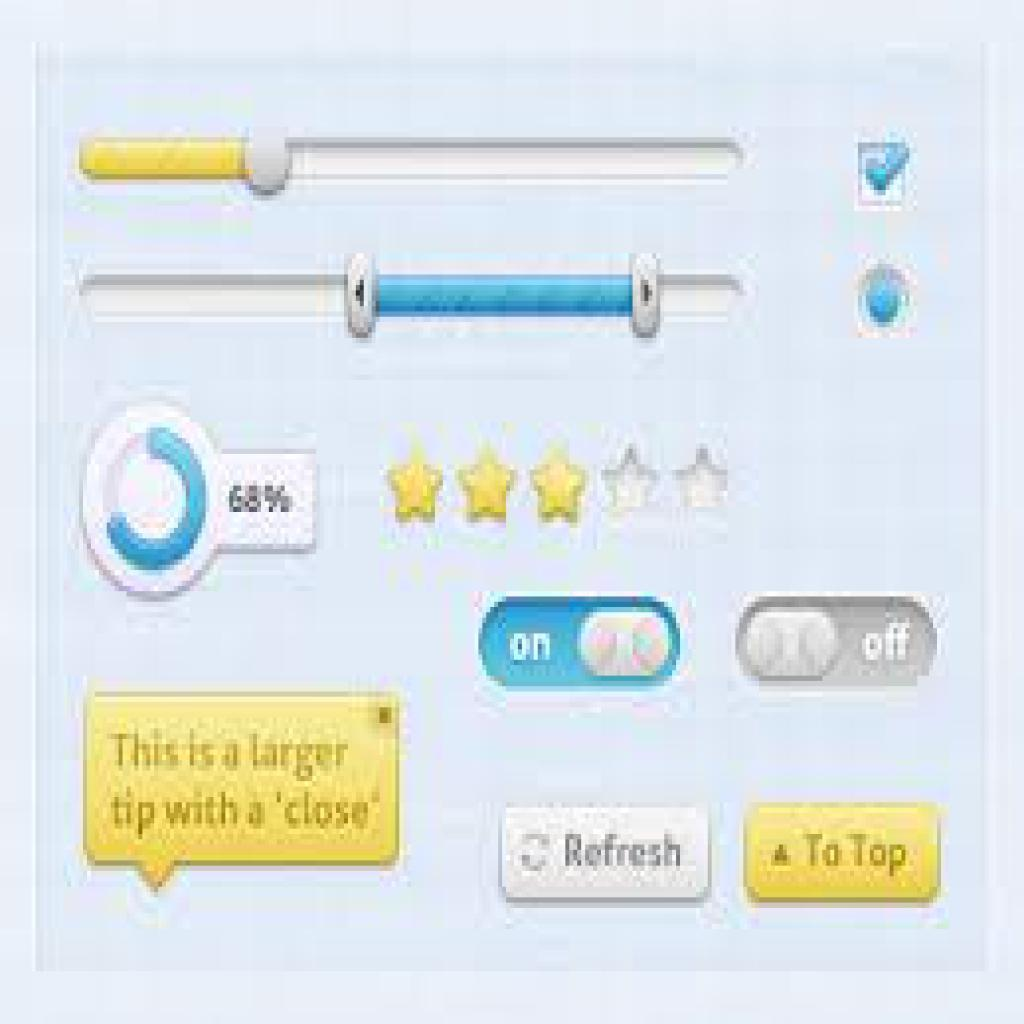button: (501, 810, 715, 900), (748, 808, 941, 905)
checkbox: (858, 137, 911, 206)
radio: (852, 262, 918, 342)
slider: (76, 250, 744, 344), (81, 121, 747, 207)
switch: (733, 594, 940, 700), (474, 598, 681, 696)
